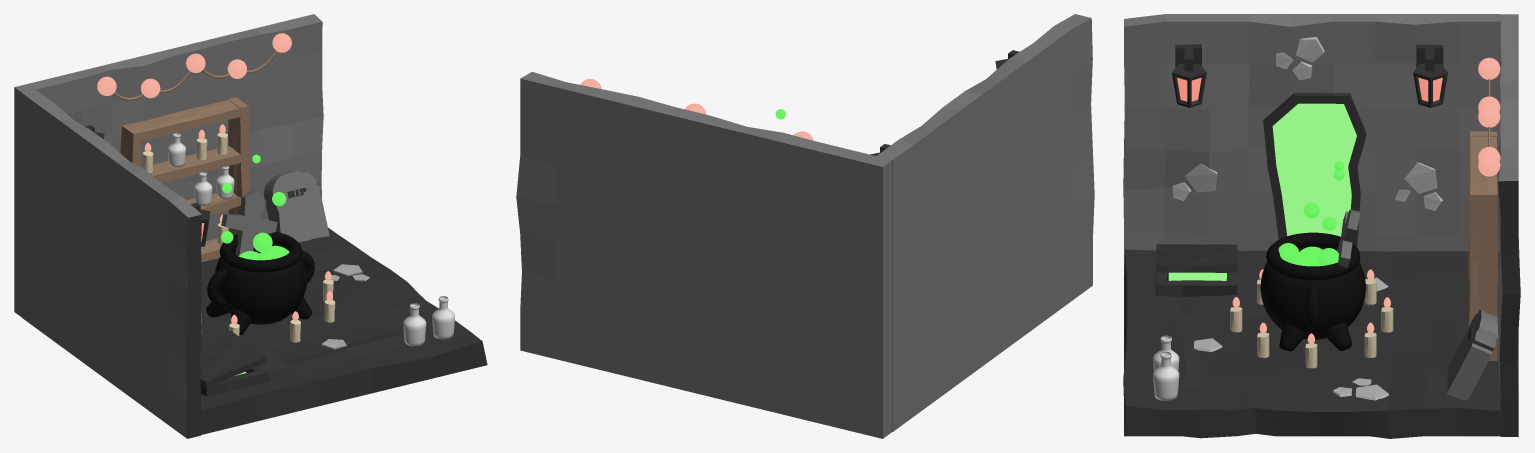
3 views of the same model, side by side, from view 1: azimuth 30°, elevation 25°; view 2: azimuth 150°, elevation 25°; view 3: azimuth 270°, elevation 25° (orthographic). The views are drawn at different scales.
Visible parts, largest first — view 1: Plane.002, Plane.003, Plane.004, Sphere, Cube, Plane.005, Cube.004, Plane, Cube.006, Torus.001, Cube.003, Plane.001 (+7 smaller); view 2: Plane.003, Plane.002; view 3: Plane.002, Plane.004, Puerta, Plane.003, Sphere, Cube.006, Plane.006, Cube, Plane.005, Torus.001, Plane.001, Polygon.001 (+17 smaller).
Boxes of the visible parts, left/top/right/bottom form: Plane.002: left=22, top=89, right=202, bottom=438; Plane.003: left=14, top=14, right=323, bottom=317; Plane.004: left=200, top=227, right=487, bottom=434; Sphere: left=215, top=244, right=307, bottom=324; Cube: left=264, top=171, right=329, bottom=242; Plane.005: left=200, top=330, right=267, bottom=387; Cube.004: left=131, top=100, right=240, bottom=140; Plane: left=221, top=189, right=277, bottom=256; Cube.006: left=228, top=97, right=249, bottom=235; Torus.001: left=219, top=232, right=302, bottom=272; Cube.003: left=141, top=146, right=240, bottom=182; Plane.001: left=200, top=366, right=269, bottom=396; Plane.003: left=516, top=72, right=892, bottom=438; Plane.002: left=876, top=14, right=1094, bottom=431; Plane.002: left=1123, top=14, right=1500, bottom=274; Plane.004: left=1123, top=249, right=1500, bottom=438; Puerta: left=1272, top=103, right=1356, bottom=236; Plane.003: left=1497, top=14, right=1520, bottom=436; Sphere: left=1260, top=247, right=1365, bottom=339; Cube.006: left=1469, top=190, right=1498, bottom=360; Plane.006: left=1263, top=92, right=1366, bottom=247; Cube: left=1446, top=310, right=1498, bottom=400; Plane.005: left=1156, top=244, right=1237, bottom=272; Torus.001: left=1266, top=232, right=1360, bottom=280; Plane.001: left=1155, top=272, right=1237, bottom=296; Polygon.001: left=1413, top=64, right=1447, bottom=107.
Size of the model in its own units: 4.24 by 3.02 by 4.22.
